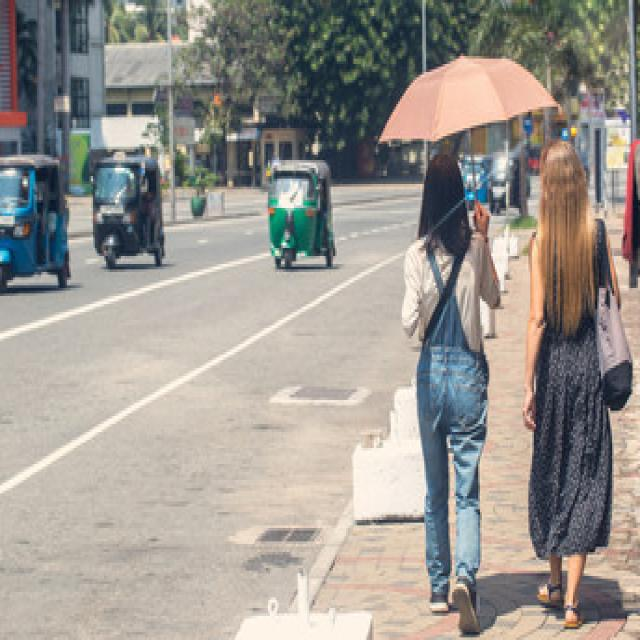person: (443, 141, 618, 629), (402, 152, 499, 632)
three wheeler: (0, 155, 162, 291), (93, 155, 162, 267), (268, 163, 333, 267), (489, 149, 517, 213), (461, 155, 486, 203)
